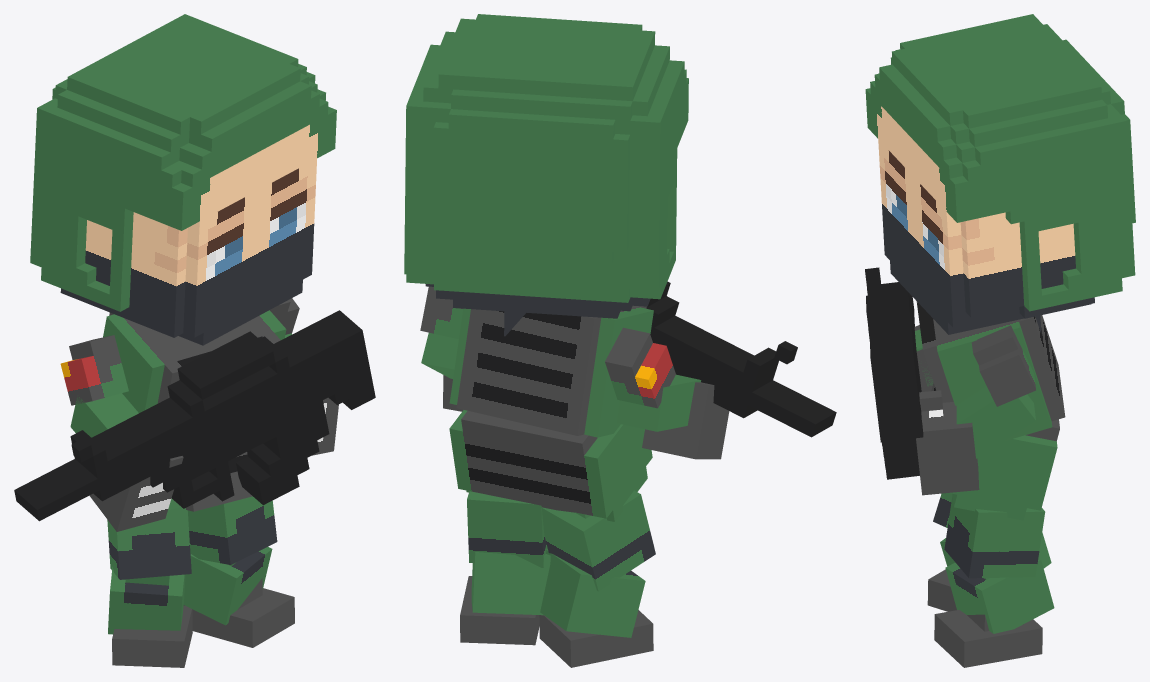
File: 绿色特种兵.gltf
The picture shows the model from 3 angles, left to right: view 1: azimuth 30°, elevation 25°; view 2: azimuth 150°, elevation 25°; view 3: azimuth 270°, elevation 25°; orthographic projection. The views are drawn at different scales.
Visible parts, largest first — view 1: Head, Group, Body, Left upper leg, Right upper leg, Left lower leg, Right lower leg, Left foot, Right upper arm, Right foot, Right hand, Right lower arm (+3 smaller); view 2: Head, Body, Hip, Group, Right upper leg, Right lower leg, Left upper leg, Left lower leg, Right upper arm, Right hand, Right foot, Left foot (+3 smaller); view 3: Head, Group, Body, Left upper leg, Hip, Left hand, Left lower leg, Left foot, Left upper arm, Left lower arm, Right foot, Right hand (+2 smaller).
Part boxes in pixels (bbox=[...]): Head: bbox=[30, 14, 336, 345]; Group: bbox=[14, 310, 375, 521]; Body: bbox=[103, 310, 286, 412]; Left upper leg: bbox=[187, 496, 277, 564]; Right upper leg: bbox=[107, 507, 191, 579]; Left lower leg: bbox=[183, 547, 272, 625]; Right lower leg: bbox=[108, 567, 185, 634]; Left foot: bbox=[183, 578, 294, 647]; Right upper arm: bbox=[60, 335, 128, 405]; Right foot: bbox=[112, 605, 192, 667]; Right hand: bbox=[89, 456, 183, 531]; Right lower arm: bbox=[70, 393, 138, 437]; Head: bbox=[404, 14, 688, 336]; Body: bbox=[449, 305, 653, 437]; Hip: bbox=[449, 410, 652, 521]; Group: bbox=[646, 281, 836, 437]; Right upper leg: bbox=[542, 490, 655, 591]; Right lower leg: bbox=[540, 550, 645, 637]; Left upper leg: bbox=[467, 491, 547, 567]; Left lower leg: bbox=[471, 552, 550, 615]; Right upper arm: bbox=[605, 327, 675, 408]; Right hand: bbox=[642, 382, 729, 459]; Right foot: bbox=[539, 610, 653, 667]; Left foot: bbox=[460, 576, 539, 645]; Head: bbox=[865, 14, 1135, 334]; Group: bbox=[865, 267, 923, 479]; Body: bbox=[916, 301, 1065, 441]; Left upper leg: bbox=[944, 495, 1045, 578]; Hip: bbox=[931, 383, 1059, 520]; Left hand: bbox=[916, 390, 979, 495]; Left lower leg: bbox=[945, 558, 1054, 633]; Left foot: bbox=[934, 610, 1042, 667]; Left upper arm: bbox=[971, 325, 1035, 406]; Left lower arm: bbox=[956, 386, 1035, 458]; Right foot: bbox=[927, 569, 956, 611]; Right hand: bbox=[914, 325, 933, 391].
Size of the model in its own units: 27.49 by 43.31 by 18.9.
1 material, 1 textured.
